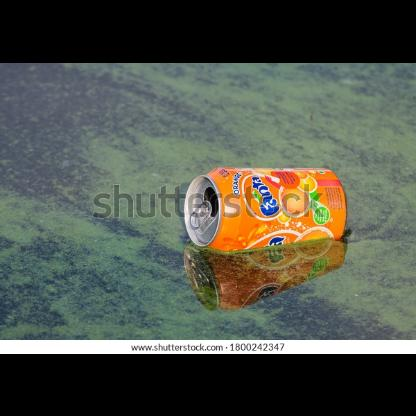Lid_Open: (184, 182, 219, 230)
Tin_Can: (180, 161, 352, 251)
